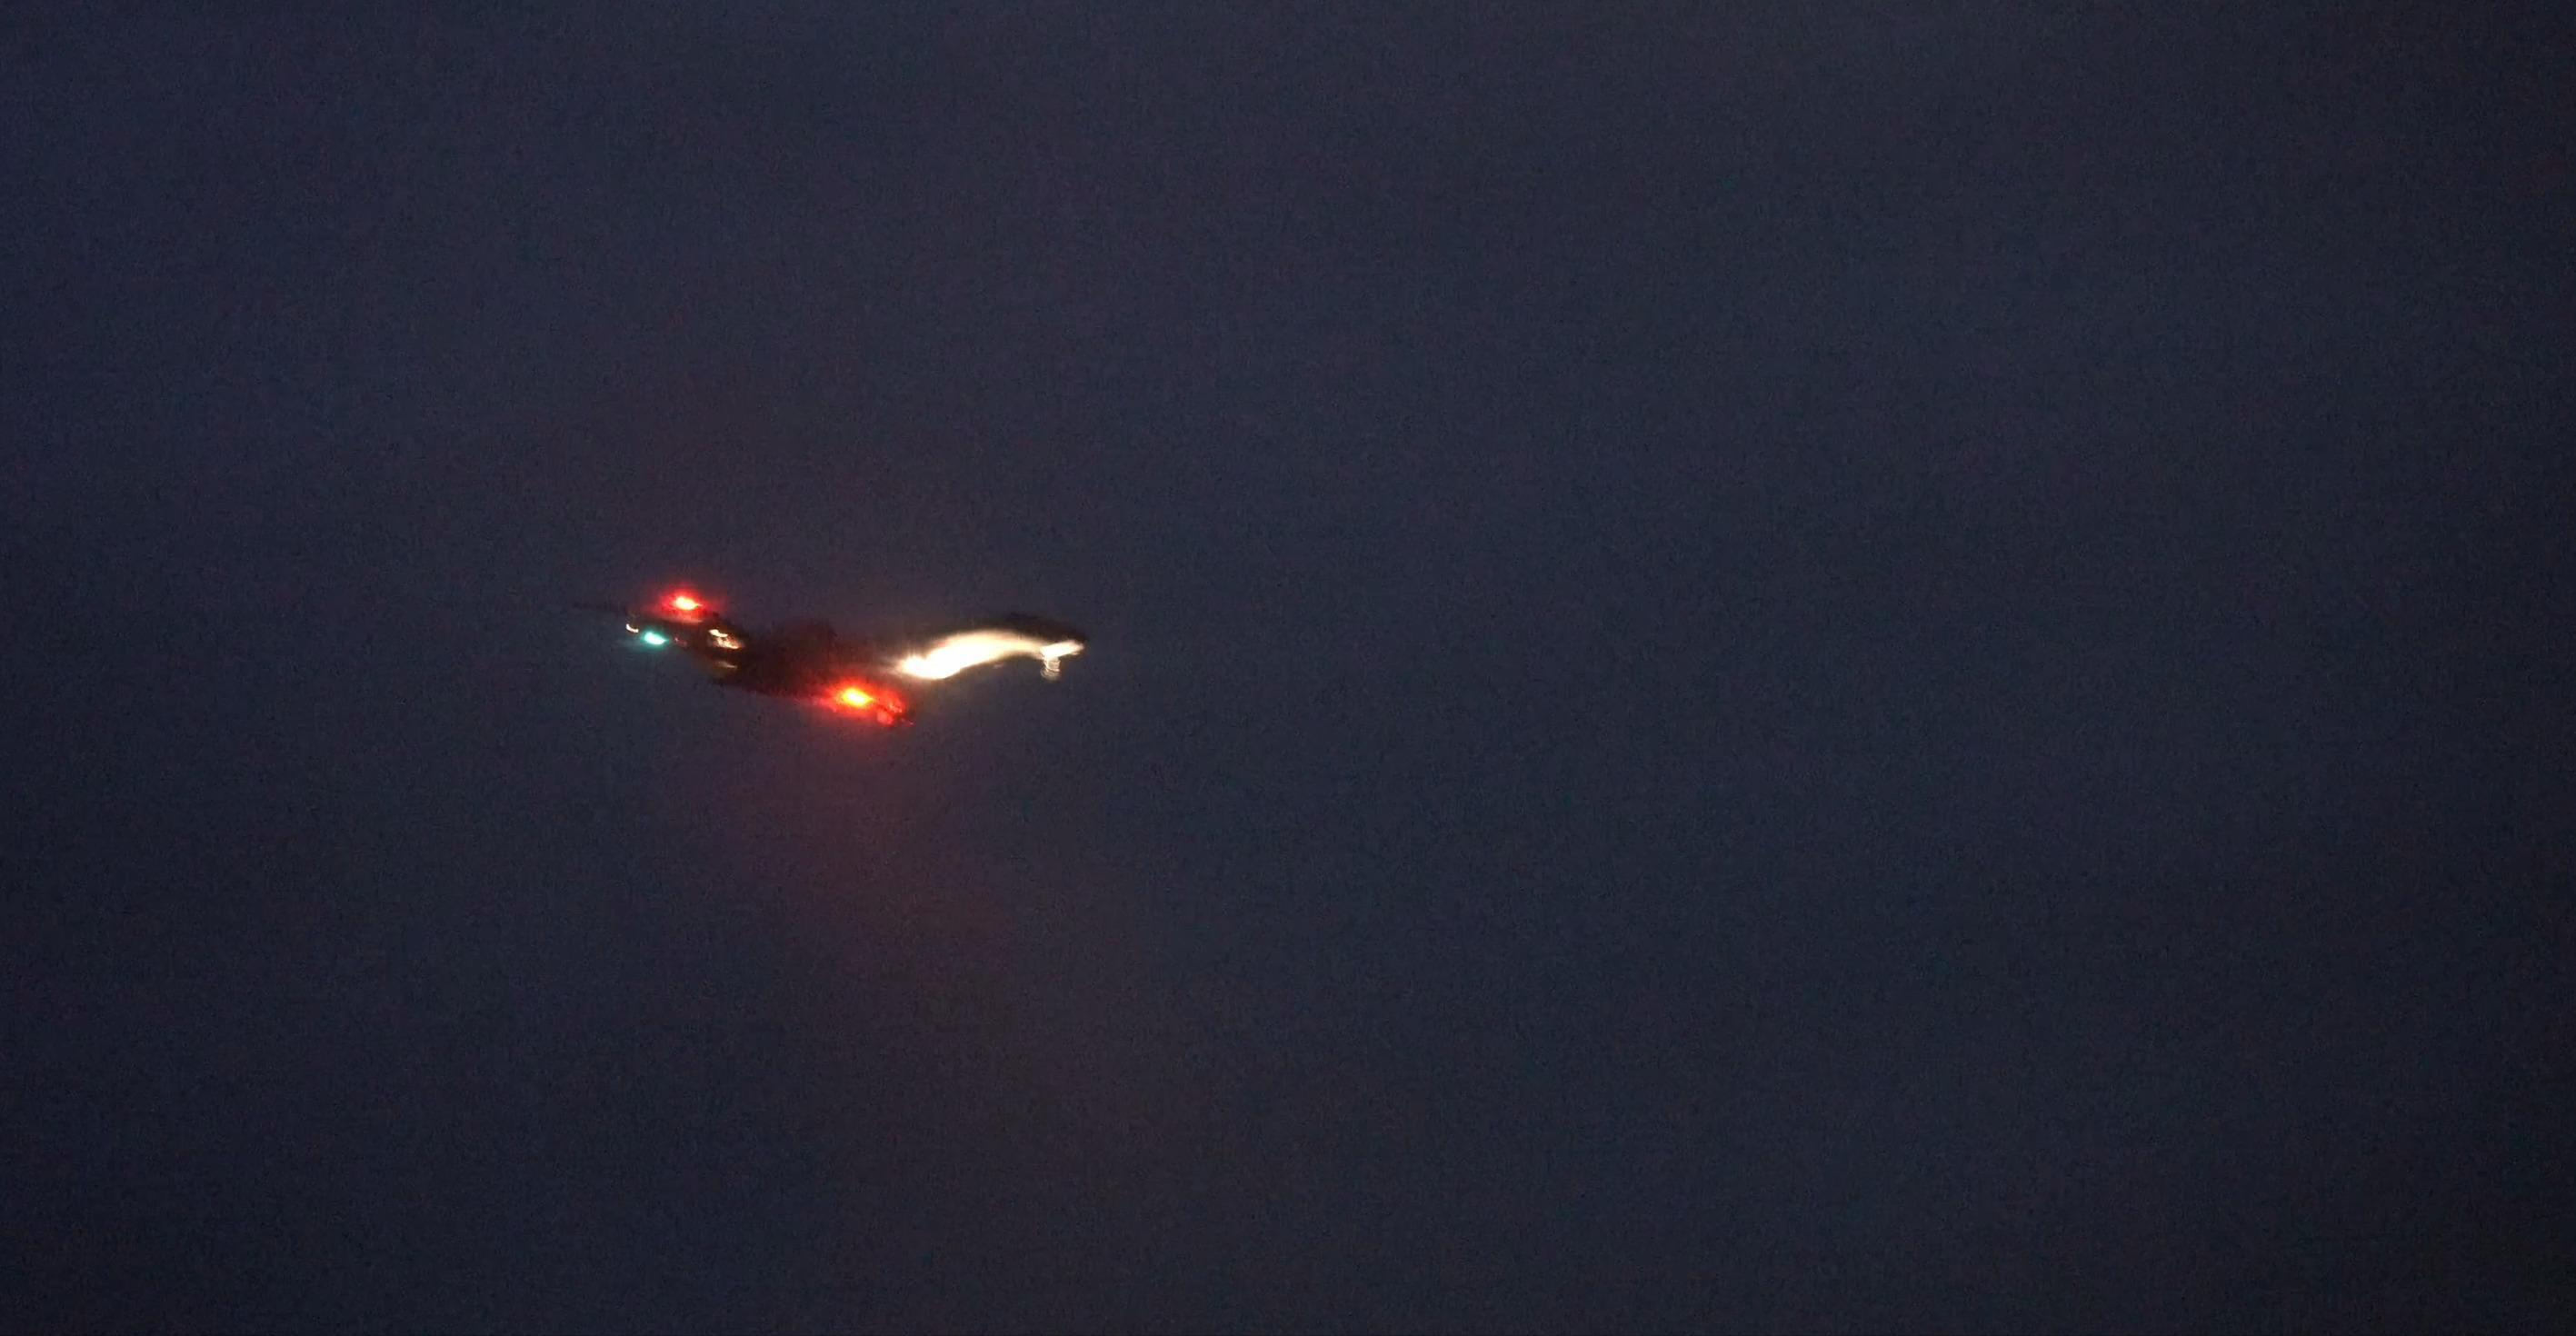Plane: (615, 581, 1191, 746)
